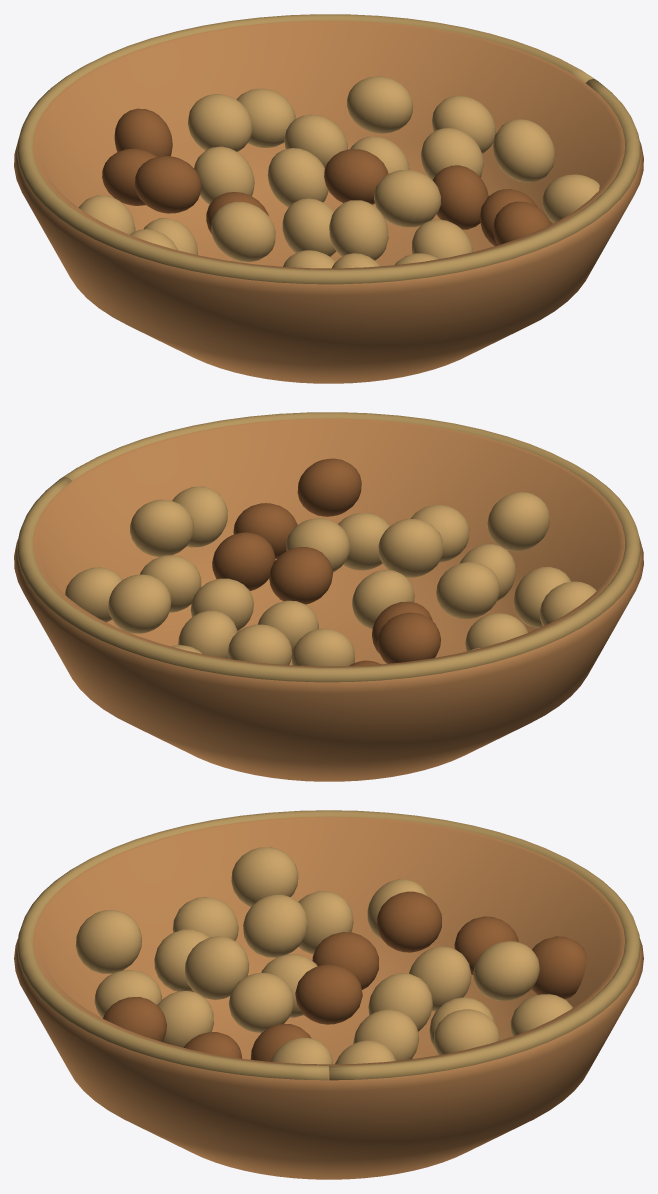
File: leblebi_bowl.glb
3 views of the same model, one above another, from view 1: azimuth 30°, elevation 25°; view 2: azimuth 150°, elevation 25°; view 3: azimuth 270°, elevation 25° (orthographic).
Visible parts, largest first — view 1: CopperBowl, BowlRolledRim, RoastedLeblebi.021, RoastedLeblebi.009, RoastedLeblebi.003, RoastedLeblebi.012, RoastedLeblebi.018, RoastedLeblebi.015, RoastedLeblebi.006, RoastedLeblebi.002, RoastedLeblebi, RoastedLeblebi.008 (+18 smaller); view 2: CopperBowl, BowlRolledRim, RoastedLeblebi.006, RoastedLeblebi.018, RoastedLeblebi.024, RoastedLeblebi.027, RoastedLeblebi.021, RoastedLeblebi.009, RoastedLeblebi, RoastedLeblebi.008, RoastedLeblebi.012, RoastedLeblebi.001 (+17 smaller); view 3: CopperBowl, BowlRolledRim, RoastedLeblebi.027, RoastedLeblebi.009, RoastedLeblebi, RoastedLeblebi.012, RoastedLeblebi.015, RoastedLeblebi.006, RoastedLeblebi.003, RoastedLeblebi.030, RoastedLeblebi.028, RoastedLeblebi.007 (+19 smaller).
Part boxes in pixels (x1,y1,x2,y2): CopperBowl: (14,20,643,383); BowlRolledRim: (17,14,640,284); RoastedLeblebi.021: (493,119,555,182); RoastedLeblebi.009: (211,201,275,261); RoastedLeblebi.003: (374,170,441,227); RoastedLeblebi.012: (135,156,201,213); RoastedLeblebi.018: (347,76,413,133); RoastedLeblebi.015: (187,94,252,151); RoastedLeblebi.006: (329,200,388,260); RoastedLeblebi.002: (267,148,328,207); RoastedLeblebi: (324,149,388,204); RoastedLeblebi.008: (433,165,488,229); CopperBowl: (14,418,643,781); BowlRolledRim: (17,412,640,682); RoastedLeblebi.006: (378,518,443,577); RoastedLeblebi.018: (108,574,171,633); RoastedLeblebi.024: (297,458,361,516); RoastedLeblebi.027: (487,492,549,551); RoastedLeblebi.021: (130,499,193,556); RoastedLeblebi.009: (436,562,499,619); RoastedLeblebi: (269,547,332,604); RoastedLeblebi.008: (212,532,275,590); RoastedLeblebi.012: (377,612,440,663); RoastedLeblebi.001: (352,570,414,629); CopperBowl: (14,816,643,1179); BowlRolledRim: (17,810,640,1080); RoastedLeblebi.027: (75,910,141,973); RoastedLeblebi.009: (243,894,307,957); RoastedLeblebi: (295,964,362,1024); RoastedLeblebi.012: (377,891,441,952); RoastedLeblebi.015: (473,941,539,1001); RoastedLeblebi.006: (185,936,249,1000); RoastedLeblebi.003: (229,972,293,1032); RoastedLeblebi.030: (231,847,298,906); RoastedLeblebi.028: (531,936,586,998); RoastedLeblebi.007: (409,946,471,1011).
Size of the model in its own units: 0.102 by 0.0294 by 0.102.
